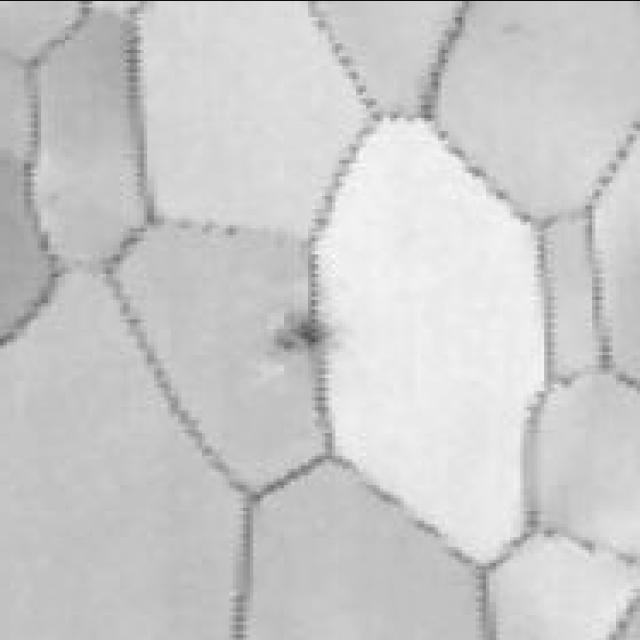good_void: (270, 316, 329, 354)
